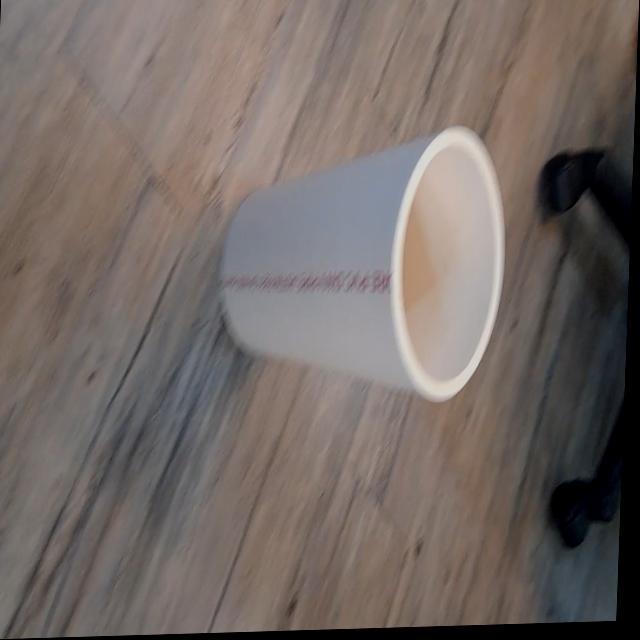CORAL: (214, 110, 510, 412)
